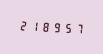eight: (40, 19, 50, 33)
five: (62, 20, 72, 35)
nine: (51, 19, 61, 34)
one: (28, 18, 38, 33)
seven: (73, 21, 83, 35)
two: (17, 18, 27, 32)
